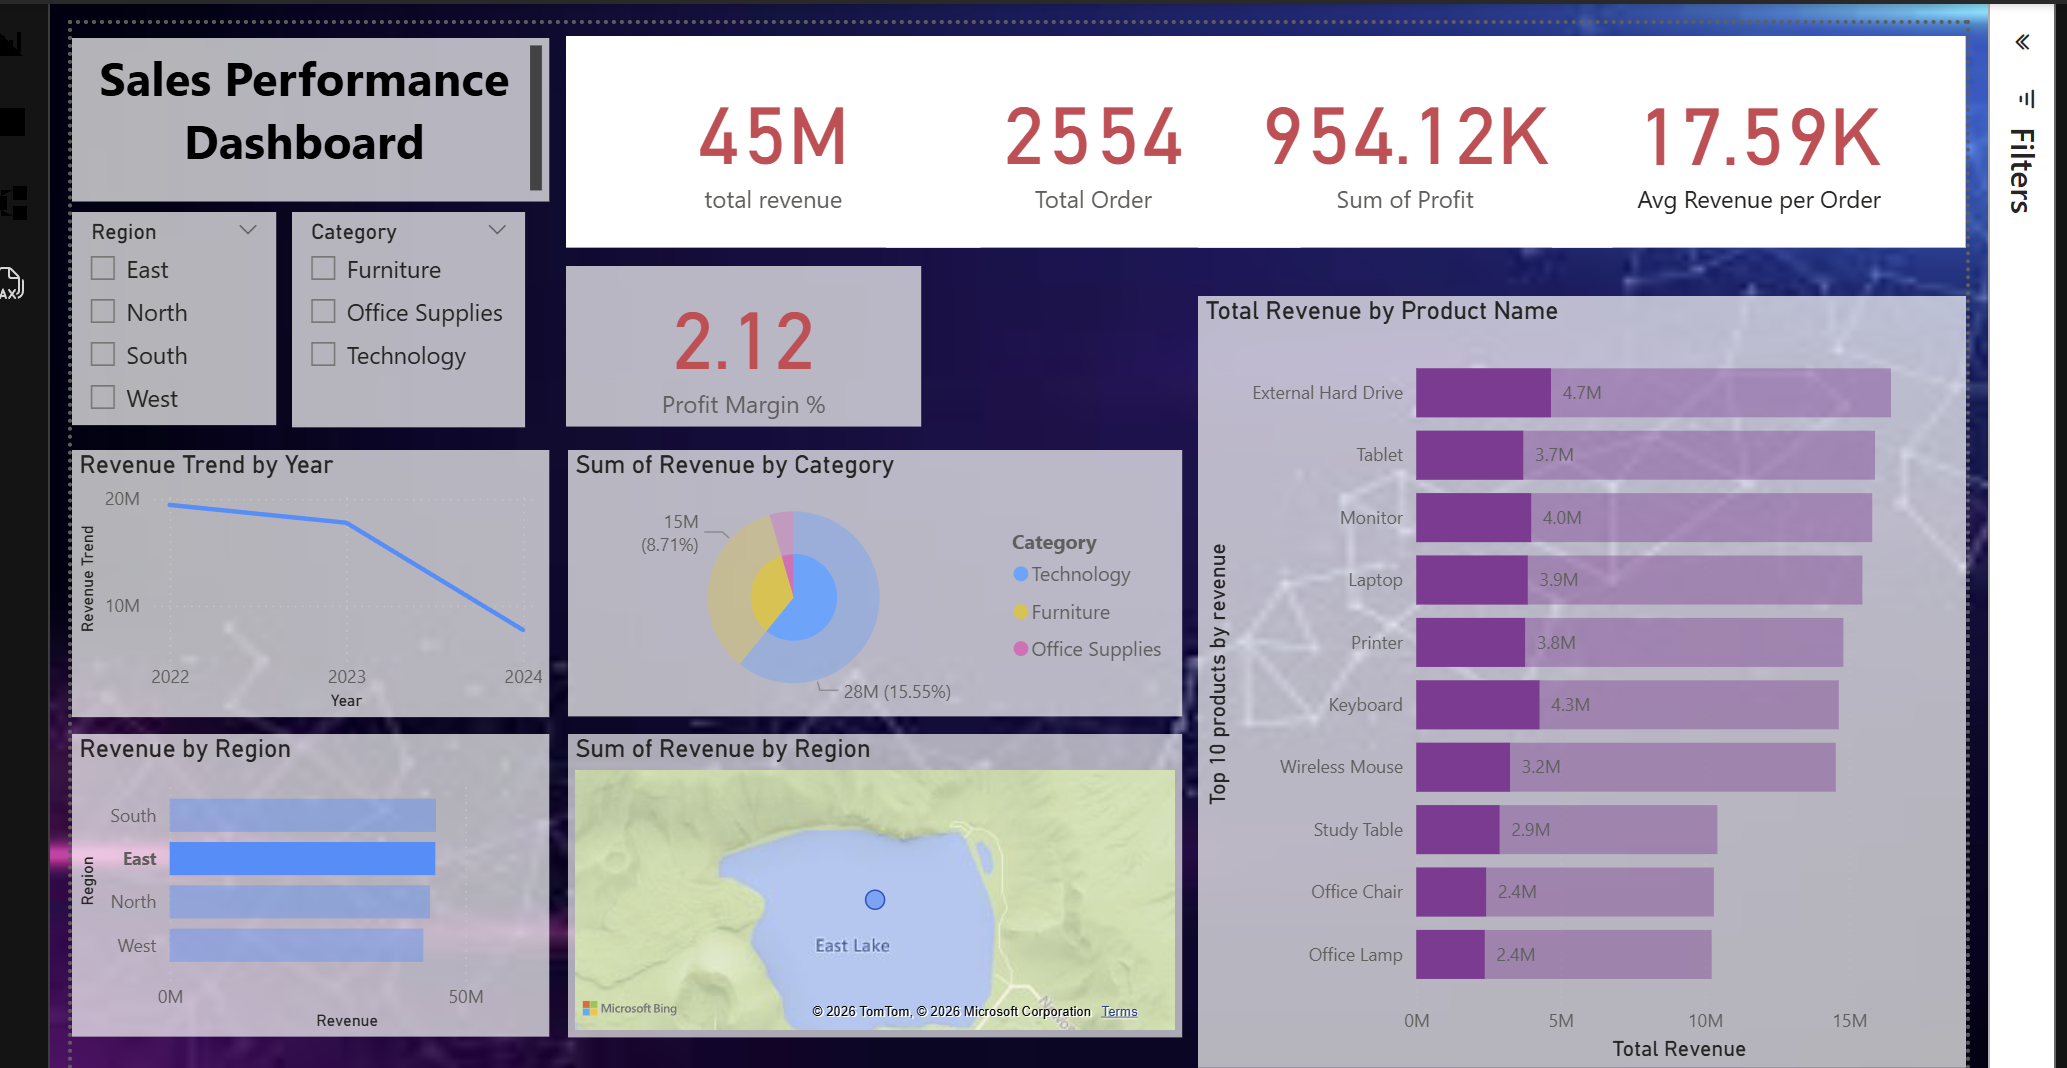

The page's visual inventory and layout, read from the dashboard file:
{"tool":"powerbi","page":{"name":"Page 1","canvas":[1280,720],"ordinal":0},"visuals":[{"type":"card","fields":{"Values":["Sum(sale_data1.Revenue)"]},"box":[334.3,8.6,280,142.9],"z":0},{"type":"card","fields":{"Values":["CountNonNull(sale_data1.Order ID)"]},"box":[550,8.6,280,142.9],"z":1},{"type":"card","fields":{"Values":["Sum(sale_data1.Profit)"]},"box":[761.4,8.6,280,142.9],"z":2},{"type":"clusteredBarChart","fields":{"Category":["sale_data1.Region"],"Y":["Sum(sale_data1.Revenue)"]},"box":[0,480.3,322.7,204.5],"z":3},{"type":"lineChart","fields":{"Category":["sale_data1.Date.Variation.Date Hierarchy.Year","sale_data1.Date.Variation.Date Hierarchy.Quarter","sale_data1.Date.Variation.Date Hierarchy.Month","sale_data1.Date.Variation.Date Hierarchy.Day"],"Y":["Sum(sale_data1.Revenue)"]},"box":[0,287.9,322.7,180.3],"z":4},{"type":"clusteredBarChart","fields":{"Category":["sale_data1.Product Name"],"Y":["Sum(sale_data1.Revenue)"]},"box":[761.4,184.3,520,521.4],"z":5},{"type":"slicer","fields":{"Values":["sale_data1.Region"]},"box":[0,127.3,137.9,143.9],"z":7},{"type":"slicer","fields":{"Values":["sale_data1.Category"]},"box":[148.5,127.3,157.6,145.5],"z":8},{"type":"textbox","box":[0,9.1,322.7,110.6],"z":9},{"type":"card","fields":{"Values":["sale_data.Avg Revenue per Order"]},"box":[1000,8.1,279.7,143.2],"z":10},{"type":"card","fields":{"Values":["sale_data.Profit Margin %"]},"box":[334.3,162.9,240,108.6],"z":12},{"type":"map","fields":{"Category":["sale_data1.Region"],"Size":["Sum(sale_data1.Revenue)"]},"box":[335,480,415,205],"z":13},{"type":"pieChart","fields":{"Category":["sale_data.Category"],"Y":["Sum(sale_data1.Revenue)"]},"box":[335,287.5,415,180],"z":14}]}

Visuals, with their boxes in screenshot pixels (x1, y1, x2, y2):
card - Sum(sale_data1.Revenue): 574,34,983,243
card - CountNonNull(sale_data1.Order ID): 889,34,1298,243
card - Sum(sale_data1.Profit): 1198,34,1606,243
clusteredBarChart - sale_data1.Region x Sum(sale_data1.Revenue): 86,723,557,1021
lineChart - sale_data1.Date.Variation.Date Hierarchy.Year x sale_data1.Date.Variation.Date Hierarchy.Quarter: 86,442,557,705
clusteredBarChart - sale_data1.Product Name x Sum(sale_data1.Revenue): 1198,291,1957,1052
slicer - sale_data1.Region: 86,207,287,417
slicer - sale_data1.Category: 303,207,533,420
textbox: 86,35,557,196
card - sale_data.Avg Revenue per Order: 1546,33,1954,242
card - sale_data.Profit Margin %: 574,259,924,418
map - sale_data1.Region x Sum(sale_data1.Revenue): 575,722,1181,1021
pieChart - sale_data.Category x Sum(sale_data1.Revenue): 575,441,1181,704
